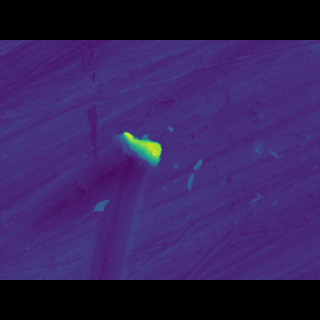Loch: (108, 134, 169, 168), (247, 141, 271, 160)
